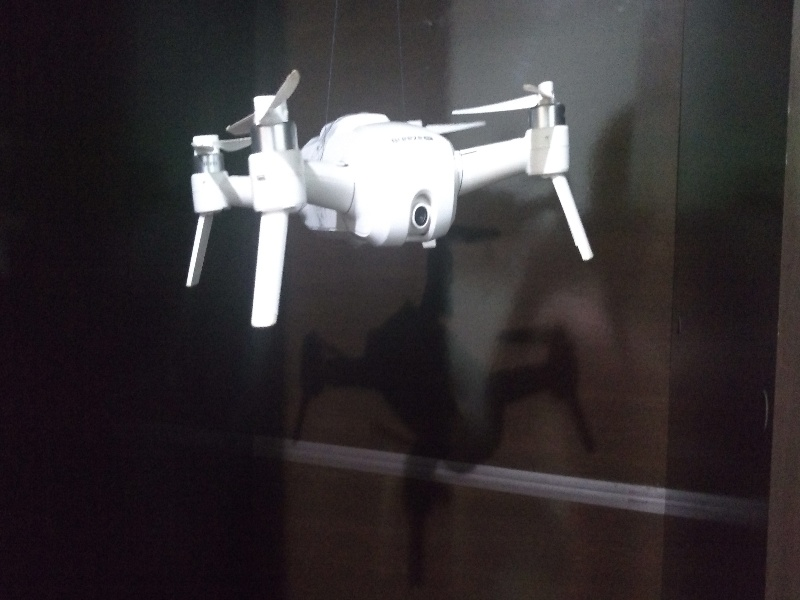drone: (164, 63, 605, 337)
